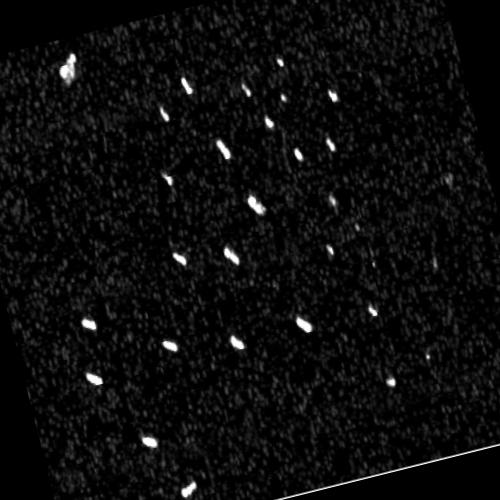ship: (58, 53, 78, 80), (247, 194, 267, 217), (294, 315, 314, 334), (215, 139, 232, 161), (85, 370, 105, 388), (223, 245, 241, 265), (181, 480, 198, 500), (229, 333, 247, 351), (141, 434, 160, 450), (79, 317, 99, 332), (180, 76, 194, 96), (171, 251, 188, 267), (159, 171, 174, 188), (162, 338, 179, 353), (366, 303, 380, 319), (159, 107, 172, 122), (327, 88, 340, 103), (292, 146, 304, 161), (241, 82, 252, 98), (264, 114, 275, 129), (326, 243, 337, 258), (326, 137, 336, 153), (327, 194, 338, 208), (386, 376, 398, 388), (279, 91, 289, 102), (276, 56, 285, 67), (424, 351, 432, 362)
